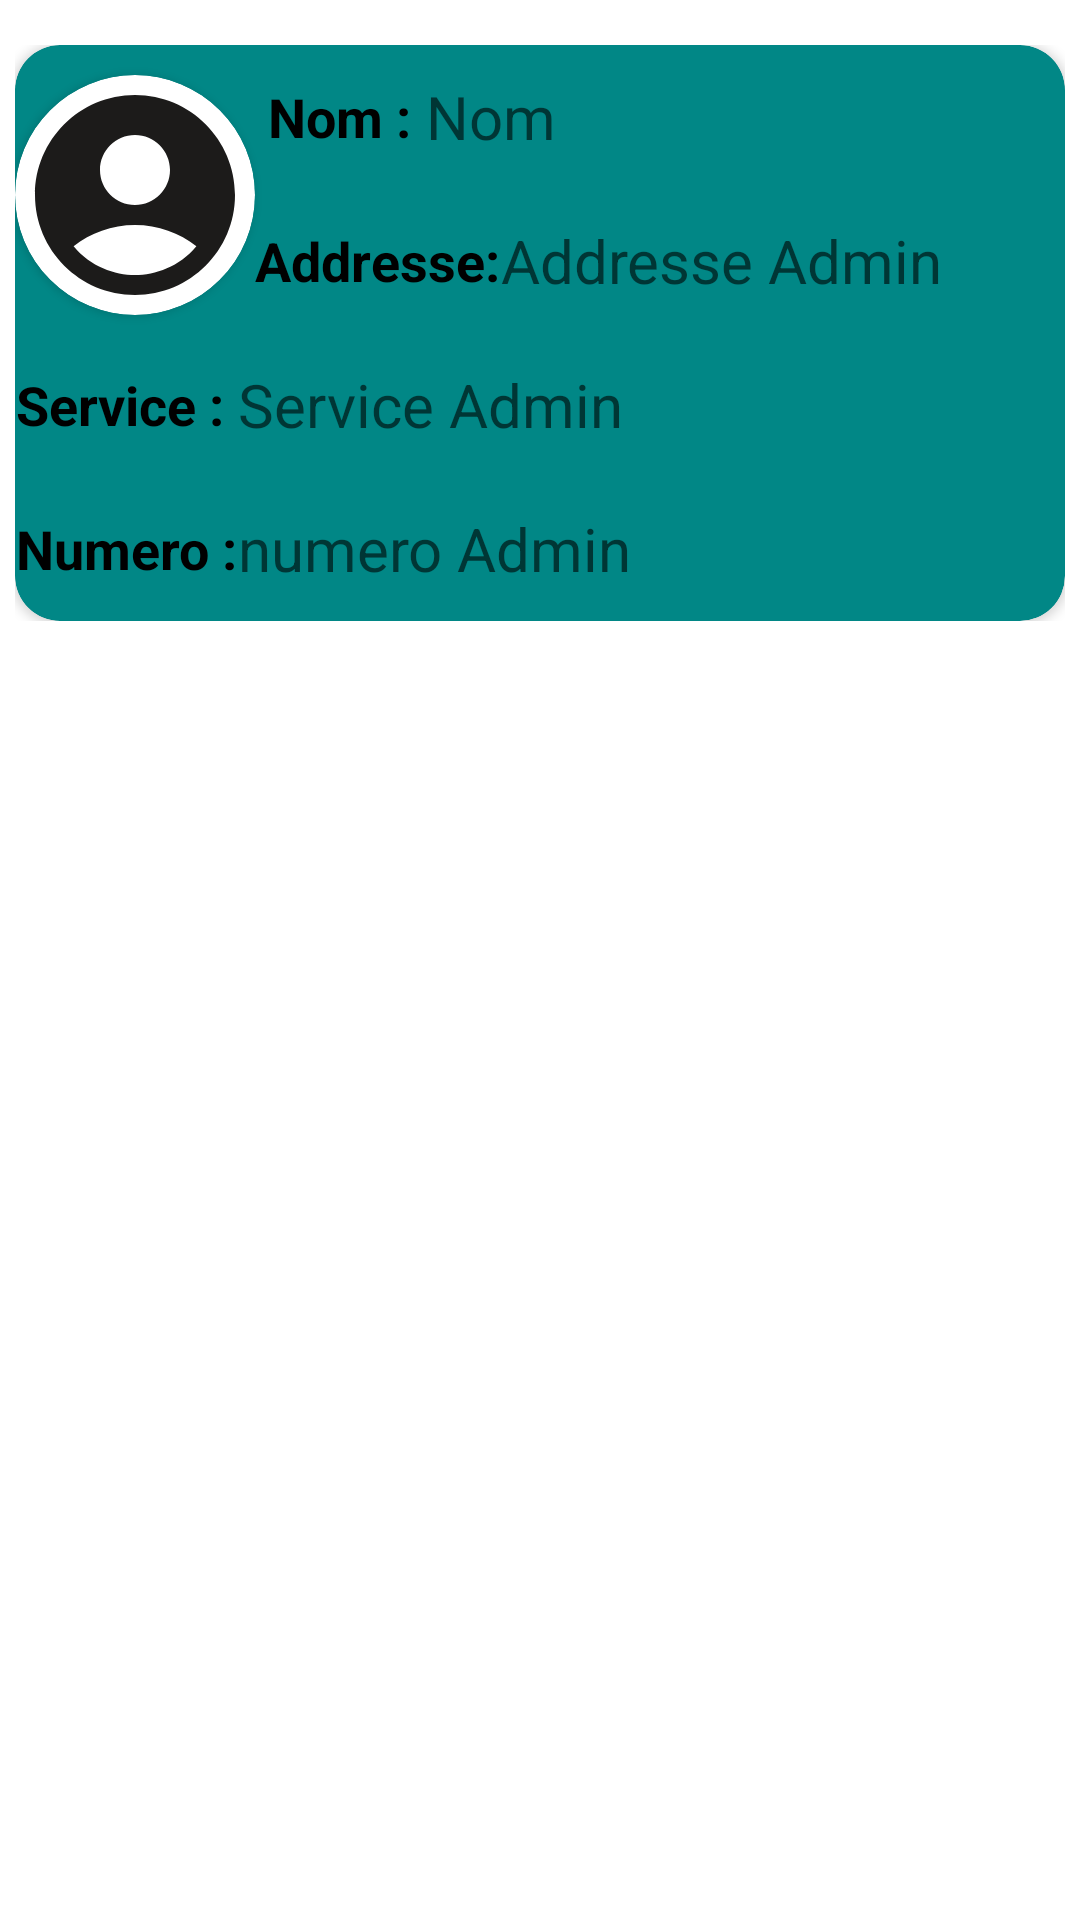

Point at icon controls on the screen. Image size 1080w x 1920h, points as (x,y).
user: (135,195)
